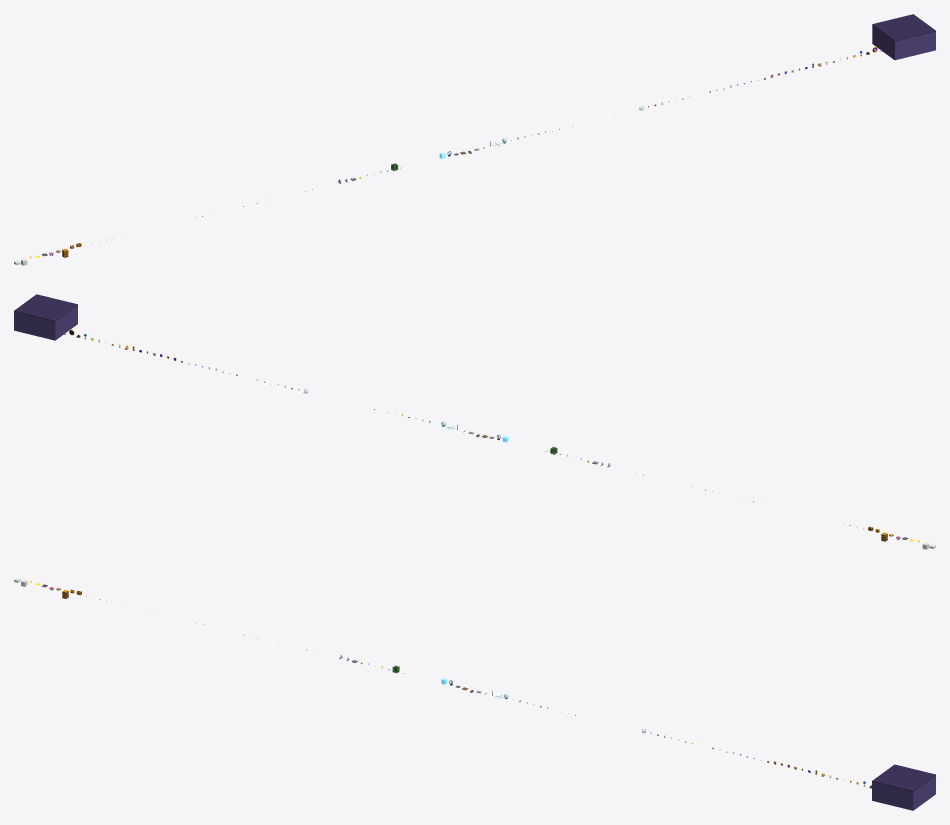
Rendered from assets.glb.
3 renders of one model, top to bottom at view 1: azimuth 30°, elevation 25°; view 2: azimuth 150°, elevation 25°; view 3: azimuth 330°, elevation 25°, orthographic.
Visible parts, largest first — view 1: room_ceiling, room_front_wall; view 2: room_walls, room_ceiling; view 3: room_ceiling, room_front_wall.
Boxes of the visible parts, bbox=[...] form: room_ceiling: bbox=[872, 14, 935, 41]; room_front_wall: bbox=[894, 31, 935, 59]; room_walls: bbox=[14, 306, 77, 340]; room_ceiling: bbox=[14, 294, 77, 321]; room_ceiling: bbox=[872, 764, 935, 791]; room_front_wall: bbox=[872, 782, 913, 810].
Bounding box in the file's own units: 212 × 5.9 × 9.1.
